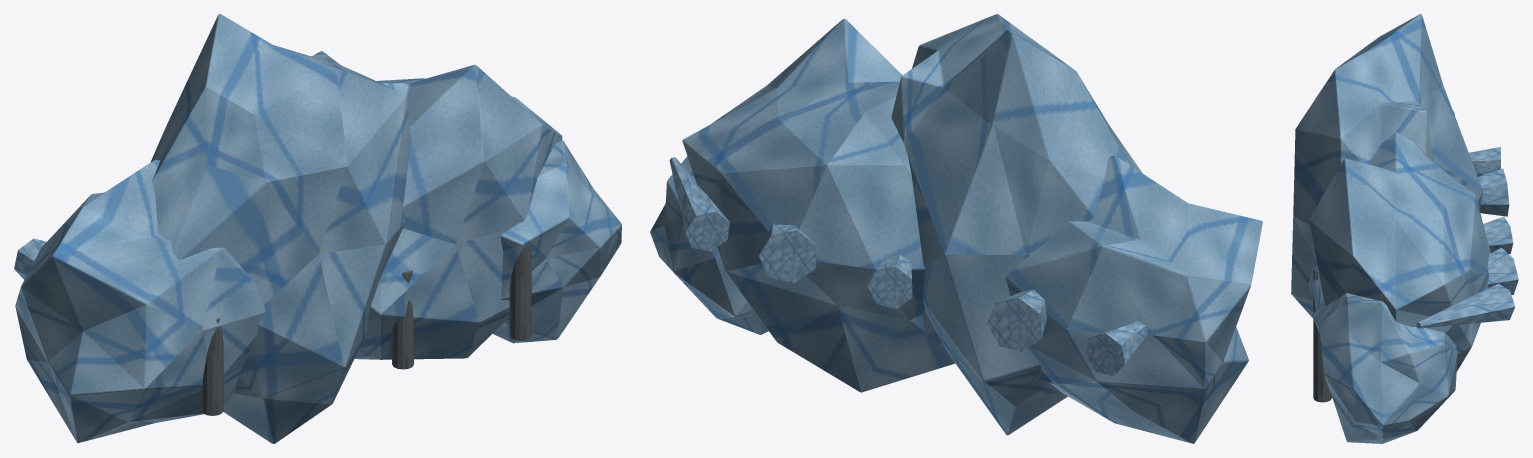
The model's file is glacier_shelf.glb.
3 renders of one model, left to right at view 1: azimuth 30°, elevation 25°; view 2: azimuth 150°, elevation 25°; view 3: azimuth 270°, elevation 25°, orthographic. The views are drawn at different scales.
Visible parts, largest first — view 1: GlacierMassB, GlacierMassA, GlacierMassC, GlacierMassD, FrozenAnchor_6.0, FrozenAnchor_-5.0, FrozenAnchor_1.8, IceShard_0; view 2: GlacierMassC, GlacierMassB, GlacierMassA, GlacierMassD, IceShard_4, IceShard_1, IceShard_3, IceShard_0, IceShard_2; view 3: GlacierMassC, GlacierMassB, GlacierMassD, IceShard_4, IceShard_1, IceShard_3, FrozenAnchor_6.0, IceShard_2, IceShard_0.
Boxes of the visible parts, x1,y1,x2,y2 form: GlacierMassB: [150, 14, 410, 443]; GlacierMassA: [15, 159, 265, 443]; GlacierMassC: [354, 64, 562, 359]; GlacierMassD: [492, 140, 621, 343]; FrozenAnchor_6.0: [509, 244, 531, 340]; FrozenAnchor_-5.0: [201, 318, 223, 415]; FrozenAnchor_1.8: [392, 270, 413, 369]; IceShard_0: [14, 238, 46, 279]; GlacierMassC: [682, 18, 955, 392]; GlacierMassB: [891, 14, 1142, 435]; GlacierMassA: [1005, 155, 1262, 443]; GlacierMassD: [650, 156, 768, 334]; IceShard_4: [669, 157, 729, 251]; IceShard_1: [987, 289, 1046, 352]; IceShard_3: [759, 224, 816, 282]; IceShard_0: [1085, 321, 1147, 375]; IceShard_2: [867, 254, 912, 308]; GlacierMassC: [1309, 132, 1490, 371]; GlacierMassB: [1291, 14, 1483, 318]; GlacierMassD: [1312, 293, 1457, 443]; IceShard_4: [1416, 283, 1514, 328]; IceShard_1: [1478, 168, 1509, 216]; IceShard_3: [1487, 247, 1518, 294]; FrozenAnchor_6.0: [1313, 319, 1331, 402]; IceShard_2: [1483, 216, 1513, 253]; IceShard_0: [1469, 147, 1500, 176].
Size of the model in its own units: 21.25 by 14.3 by 8.36.
Materials: 4 (4 with a texture image).
